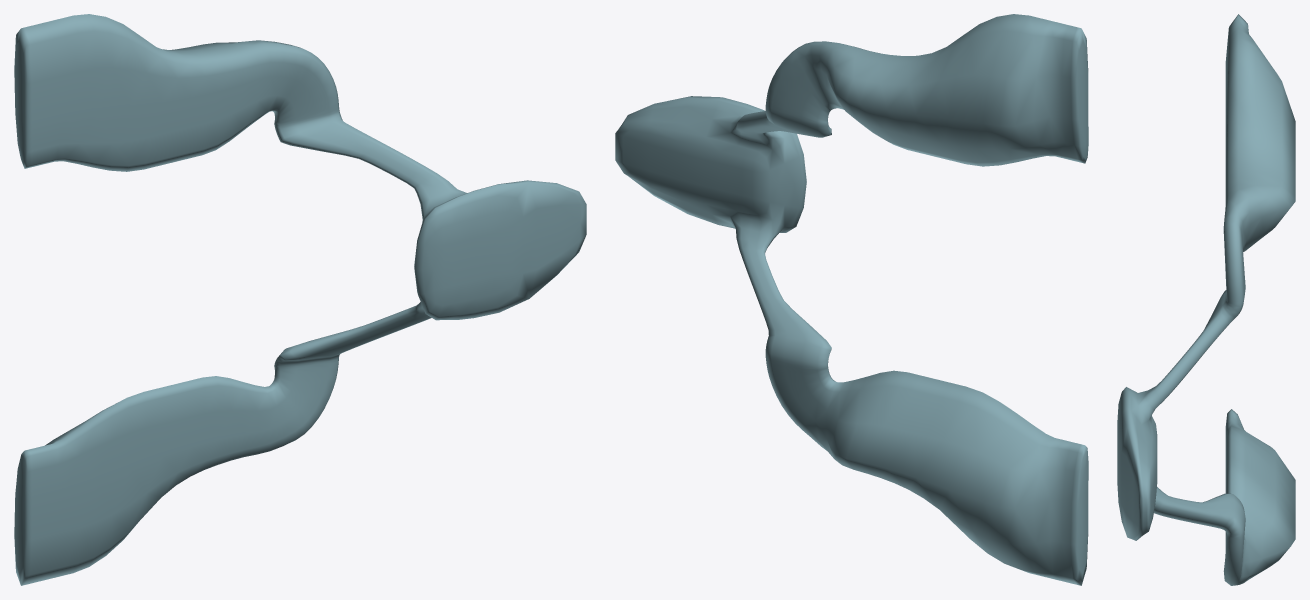
Rendered from alien1 IB.fbx.
The picture shows the model from 3 angles, left to right: view 1: azimuth 30°, elevation 25°; view 2: azimuth 150°, elevation 25°; view 3: azimuth 270°, elevation 25°; orthographic projection. The views are drawn at different scales.
Parts seen in each view (by area): view 1: Cube; view 2: Cube; view 3: Cube.
Part boxes in pixels (x1,y1,x2,y2): Cube: (14,14,586,585); Cube: (615,14,1088,585); Cube: (1117,14,1295,585).
Size of the model in its own units: 12.72 by 13.13 by 4.04.
